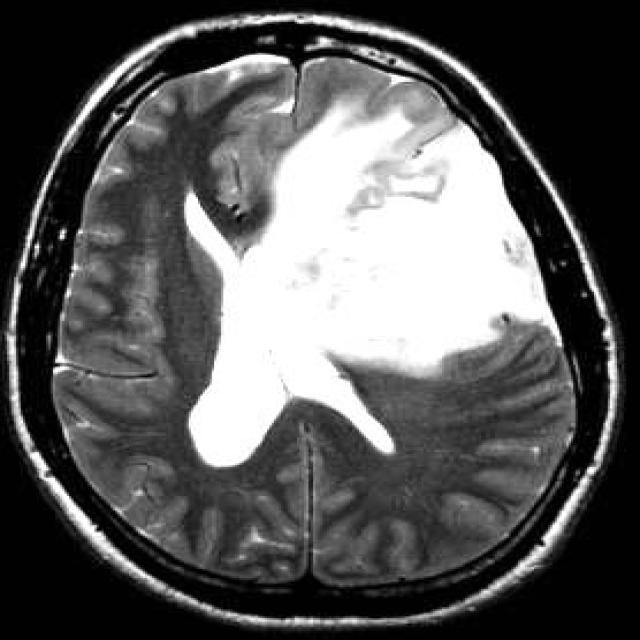Tumor-Cell: (200, 130, 540, 469)
